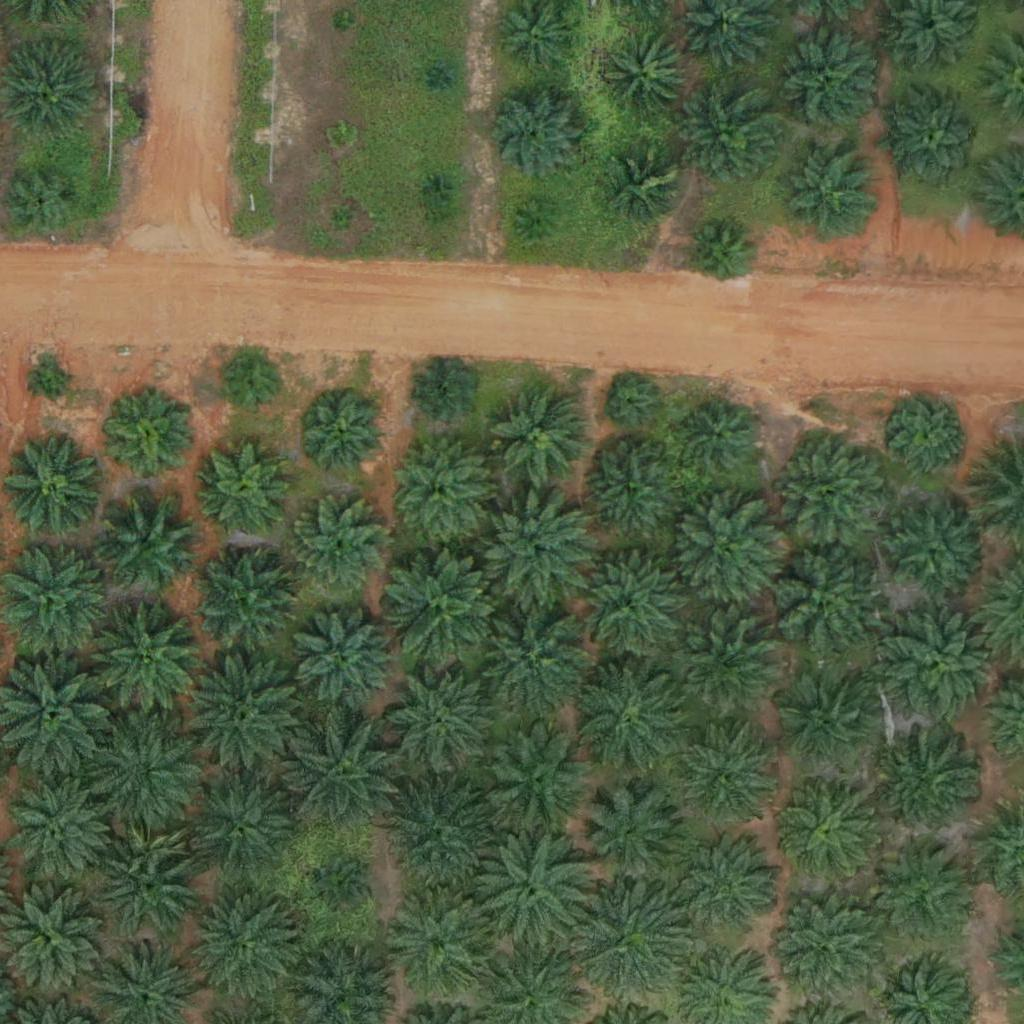Kelapa_Sawit: (80, 712, 205, 838), (176, 654, 301, 780), (281, 713, 406, 839), (382, 544, 507, 670), (378, 773, 503, 899), (465, 593, 590, 719), (475, 824, 600, 950), (570, 655, 695, 781), (565, 880, 690, 1006), (770, 428, 895, 554), (758, 539, 883, 665), (763, 886, 888, 1012), (878, 603, 1003, 729), (566, 547, 691, 672), (90, 603, 203, 717), (190, 544, 303, 658), (182, 771, 295, 884), (187, 888, 300, 1001), (479, 493, 592, 606), (480, 725, 593, 838), (575, 781, 688, 894), (674, 835, 787, 948), (387, 888, 499, 1002), (479, 78, 591, 191), (89, 823, 201, 936), (290, 605, 402, 718), (381, 662, 493, 775), (668, 496, 780, 609), (669, 608, 781, 721), (680, 87, 780, 188), (774, 32, 874, 133), (779, 142, 879, 243), (286, 498, 386, 599), (390, 439, 490, 540), (490, 387, 590, 488), (579, 441, 679, 542), (778, 675, 878, 776), (779, 776, 879, 877), (886, 731, 986, 832), (874, 836, 974, 937), (885, 91, 985, 191), (3, 433, 103, 533), (98, 491, 198, 591), (884, 500, 984, 600), (603, 33, 691, 121), (201, 443, 289, 531), (300, 392, 388, 480), (681, 731, 769, 819), (107, 397, 194, 485), (6, 163, 81, 239), (891, 397, 966, 473), (610, 151, 685, 226), (682, 400, 757, 475), (689, 224, 752, 287), (311, 859, 374, 922), (412, 362, 475, 425), (222, 355, 284, 418), (607, 379, 657, 429), (519, 200, 557, 238), (34, 363, 71, 401), (331, 11, 356, 36), (327, 123, 352, 148), (330, 207, 355, 232), (430, 65, 455, 90), (423, 175, 448, 200)
